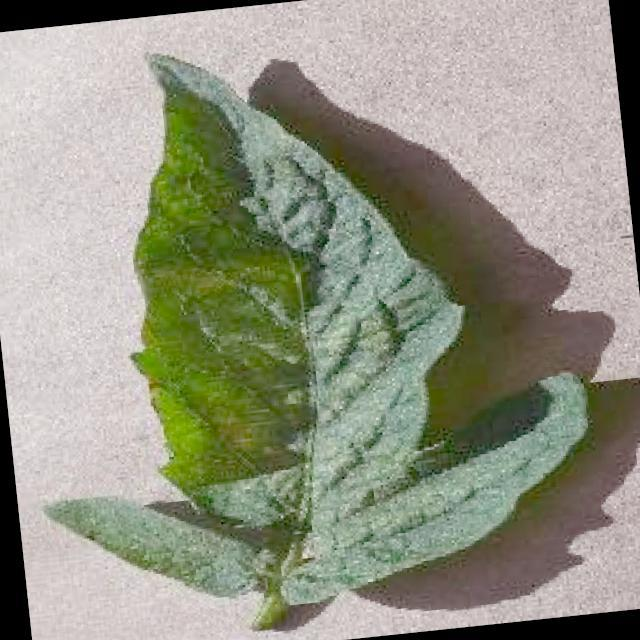Tomato spider mites leaf: (0, 4, 609, 634)
